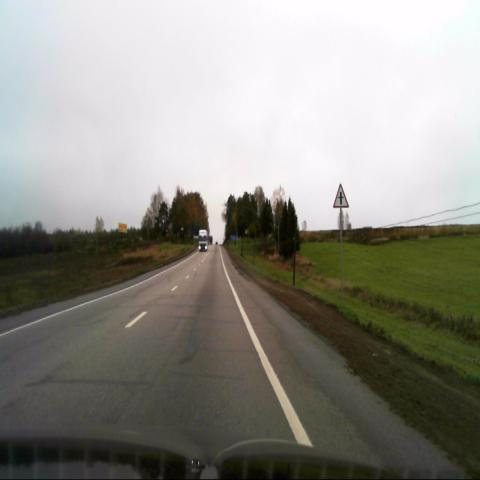2_3: (333, 183, 349, 208)
